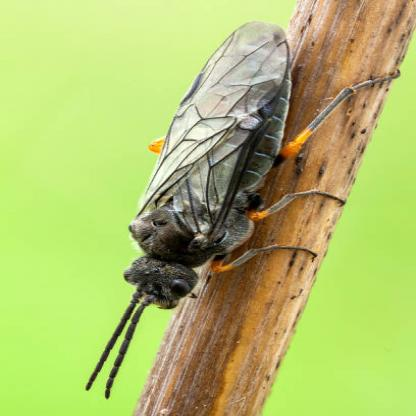sawfly: (73, 22, 394, 398)
